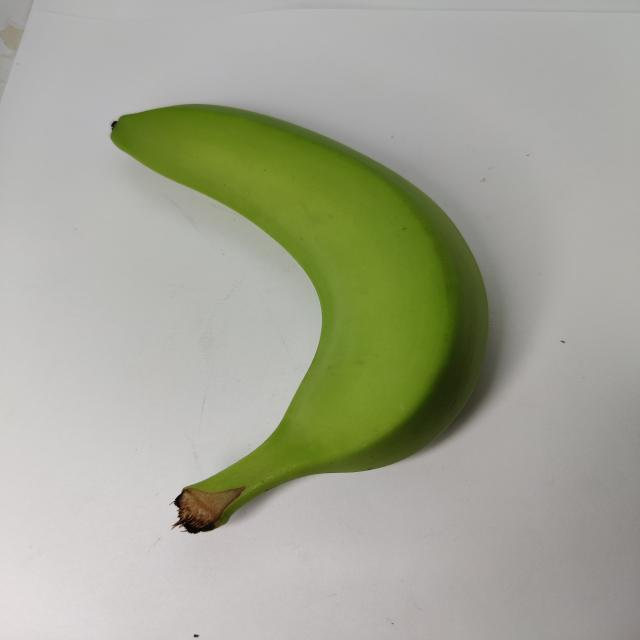raw: (66, 85, 530, 561)
